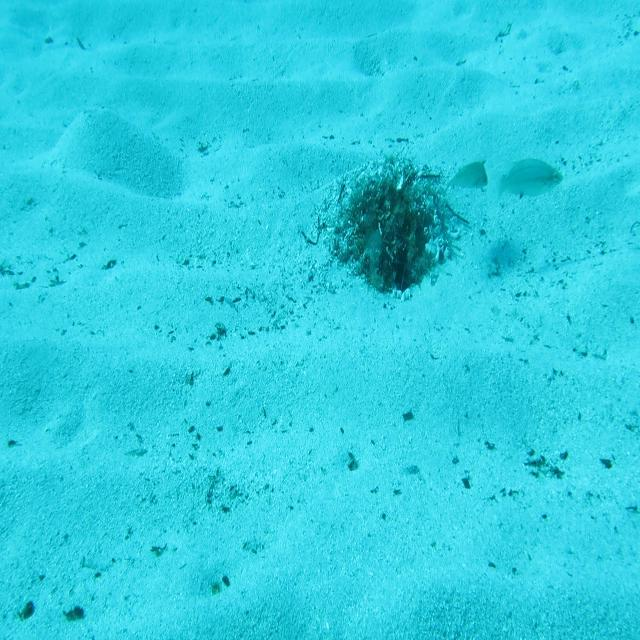BK_SW: (440, 153, 489, 200)
female: (494, 154, 565, 207)
nest: (334, 156, 455, 294)
